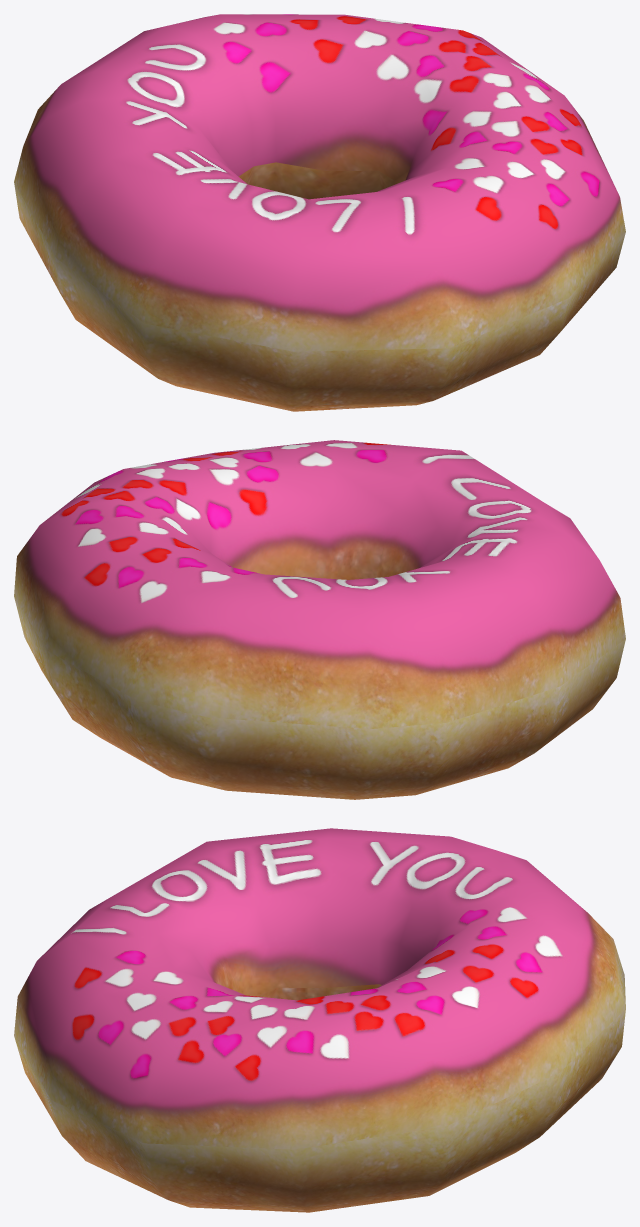
The model's file is Donut12LP.obj.
3 renders of one model, top to bottom at view 1: azimuth 30°, elevation 25°; view 2: azimuth 150°, elevation 25°; view 3: azimuth 270°, elevation 25°, orthographic.
Parts seen in each view (by area): view 1: donut068; view 2: donut068; view 3: donut068.
Boxes of the visible parts, bbox=[...] form: donut068: bbox=[14, 14, 625, 411]; donut068: bbox=[14, 440, 625, 799]; donut068: bbox=[14, 828, 625, 1212].
Bounding box in the file's own units: 9.42 × 3.94 × 9.78.
1 material, 1 textured.
